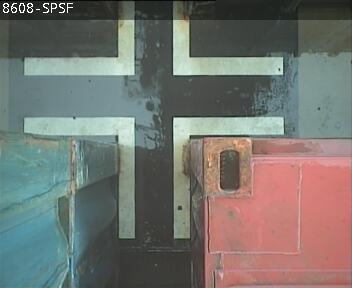groundmarker_1: (23, 116, 285, 240), (22, 1, 283, 74)
